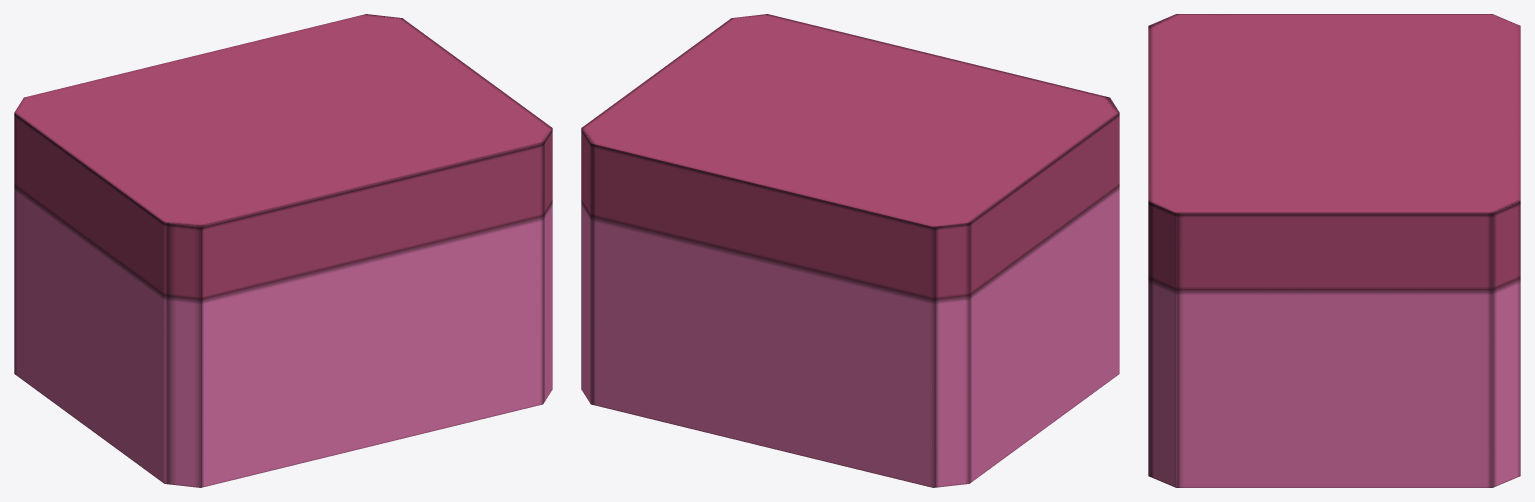
File: case5.fbx
3 views of the same model, side by side, from view 1: azimuth 30°, elevation 25°; view 2: azimuth 150°, elevation 25°; view 3: azimuth 270°, elevation 25° (orthographic). The views are drawn at different scales.
Visible parts, largest first — view 1: polySurface1558; view 2: polySurface1558; view 3: polySurface1558.
Part boxes in pixels (<box>): polySurface1558: <box>14,14,552,487</box>; polySurface1558: <box>581,14,1119,487</box>; polySurface1558: <box>1148,14,1520,487</box>.
Size of the model in its own units: 0.3513 by 0.2256 by 0.277.
